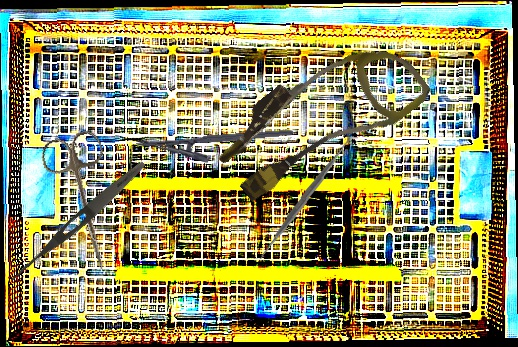Cannula: (205, 13, 435, 223)
Dressing Forceps: (7, 157, 149, 287)
Iris Scissors: (37, 127, 135, 278)
Needle Holder: (135, 128, 295, 168)
Spatula Surgical: (246, 136, 365, 260)
